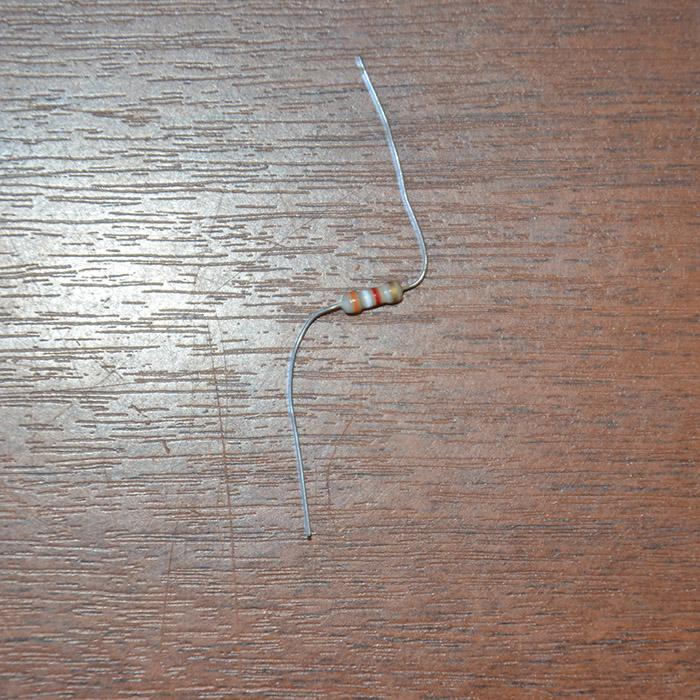resistor: (338, 279, 404, 314)
